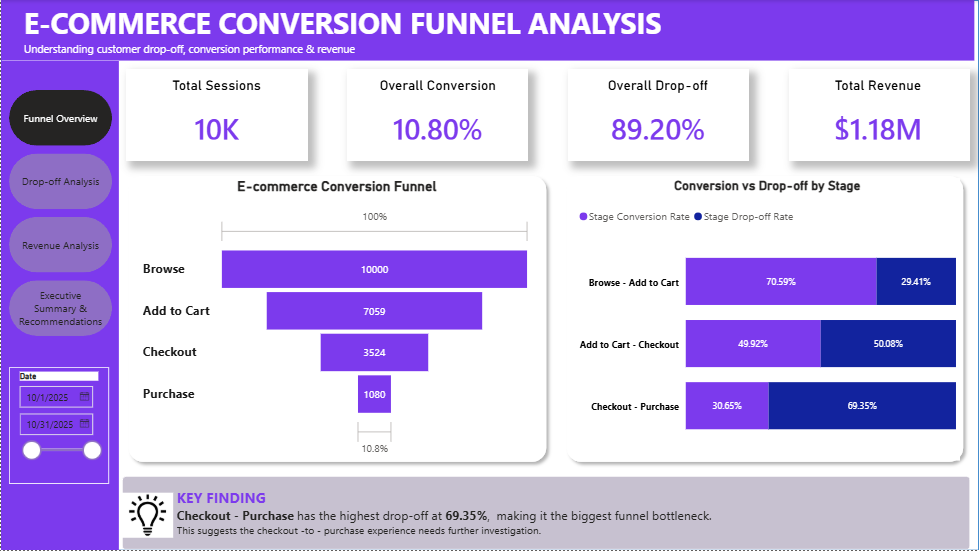

This screenshot's page, from the dashboard's own definition file:
{"tool":"powerbi","page":{"name":"Funnel Overview","canvas":[1280,720],"ordinal":0},"visuals":[{"type":"shape","box":[0,0,1280,720.6],"z":0},{"type":"shape","box":[0,79.2,154.1,640.8],"z":1000},{"type":"shape","title":"E-Commerce  Conversion Funnel Analysis","box":[0,0,1274.4,79.2],"z":2000},{"type":"shape","box":[164.2,90.7,237.6,119.5],"z":3000},{"type":"shape","box":[453.5,90.7,237,119.5],"z":4000},{"type":"shape","box":[742.3,90.7,237,119.5],"z":5000},{"type":"shape","box":[1031,90.7,237,119.5],"z":6000},{"type":"cardVisual","title":"Total Sessions","fields":{"Data":["funnel_analysis_data.Total Sessions"]},"box":[180,100.8,203,99.4],"z":7000},{"type":"cardVisual","title":"Overall Conversion","fields":{"Data":["funnel_analysis_data.Overall Conversion Rate"]},"box":[466.6,100.8,211.7,99.4],"z":8000},{"type":"cardVisual","title":"Overall Drop-off","fields":{"Data":["funnel_analysis_data.Overall Drop-off"]},"box":[751.7,100.8,217.4,99.4],"z":9000},{"type":"cardVisual","title":"Total Revenue","fields":{"Data":["funnel_analysis_data.Total Revenue"]},"box":[1041.1,100.8,214.6,99.4],"z":10000},{"type":"shape","box":[158.3,221.6,564.3,392.3],"z":11000},{"type":"funnel","title":"E-commerce Conversion  Funnel","fields":{"Category":["Funnel Stages.Funnel Stage"],"Y":["funnel_analysis_data.Total Sessions"]},"box":[180.3,232.6,518,370.2],"z":12000},{"type":"shape","box":[732.2,221.6,536.8,392.3],"z":13000},{"type":"hundredPercentStackedBarChart","title":"Conversion vs Drop-off by Stage","fields":{"Category":["Funnel Transitions.Stage"],"Y":["funnel_analysis_data.Stage Conversion Rate","funnel_analysis_data.Stage Drop-off Rate"]},"box":[751.5,232.6,503.7,370.2],"z":14000},{"type":"shape","box":[158.4,623.5,1110.2,96.5],"z":15000},{"type":"textbox","title":"KEY FINDING","box":[225.7,633.1,1029.5,82.6],"z":16000},{"type":"textbox","box":[24.8,0,885,79.8],"z":17000},{"type":"image","box":[158.3,630.4,67.4,86.7],"z":18000},{"type":"slicer","fields":{"Values":["funnel_analysis_data.Date"]},"box":[11,480.3,130.8,152.8],"z":19000},{"type":"pageNavigator","box":[11,118.4,135,322.1],"z":20000}]}

Visuals, with their boxes in screenshot pixels (x1, y1, x2, y2), scaled from the page's 1280x720 canvas onto the 979x551 screenshot:
shape: left=0, top=0, right=978, bottom=550
shape: left=0, top=61, right=118, bottom=550
"E-Commerce  Conversion Funnel Analysis" shape: left=0, top=0, right=975, bottom=61
shape: left=126, top=69, right=307, bottom=161
shape: left=347, top=69, right=528, bottom=161
shape: left=568, top=69, right=749, bottom=161
shape: left=789, top=69, right=970, bottom=161
"Total Sessions" cardVisual: left=138, top=77, right=293, bottom=153
"Overall Conversion" cardVisual: left=357, top=77, right=519, bottom=153
"Overall Drop-off" cardVisual: left=575, top=77, right=741, bottom=153
"Total Revenue" cardVisual: left=796, top=77, right=960, bottom=153
shape: left=121, top=170, right=553, bottom=470
"E-commerce Conversion  Funnel" funnel: left=138, top=178, right=534, bottom=461
shape: left=560, top=170, right=971, bottom=470
"Conversion vs Drop-off by Stage" hundredPercentStackedBarChart: left=575, top=178, right=960, bottom=461
shape: left=121, top=477, right=970, bottom=550
"KEY FINDING" textbox: left=173, top=484, right=960, bottom=548
textbox: left=19, top=0, right=696, bottom=61
image: left=121, top=482, right=173, bottom=549
slicer - funnel_analysis_data.Date: left=8, top=368, right=108, bottom=484
pageNavigator: left=8, top=91, right=112, bottom=337
